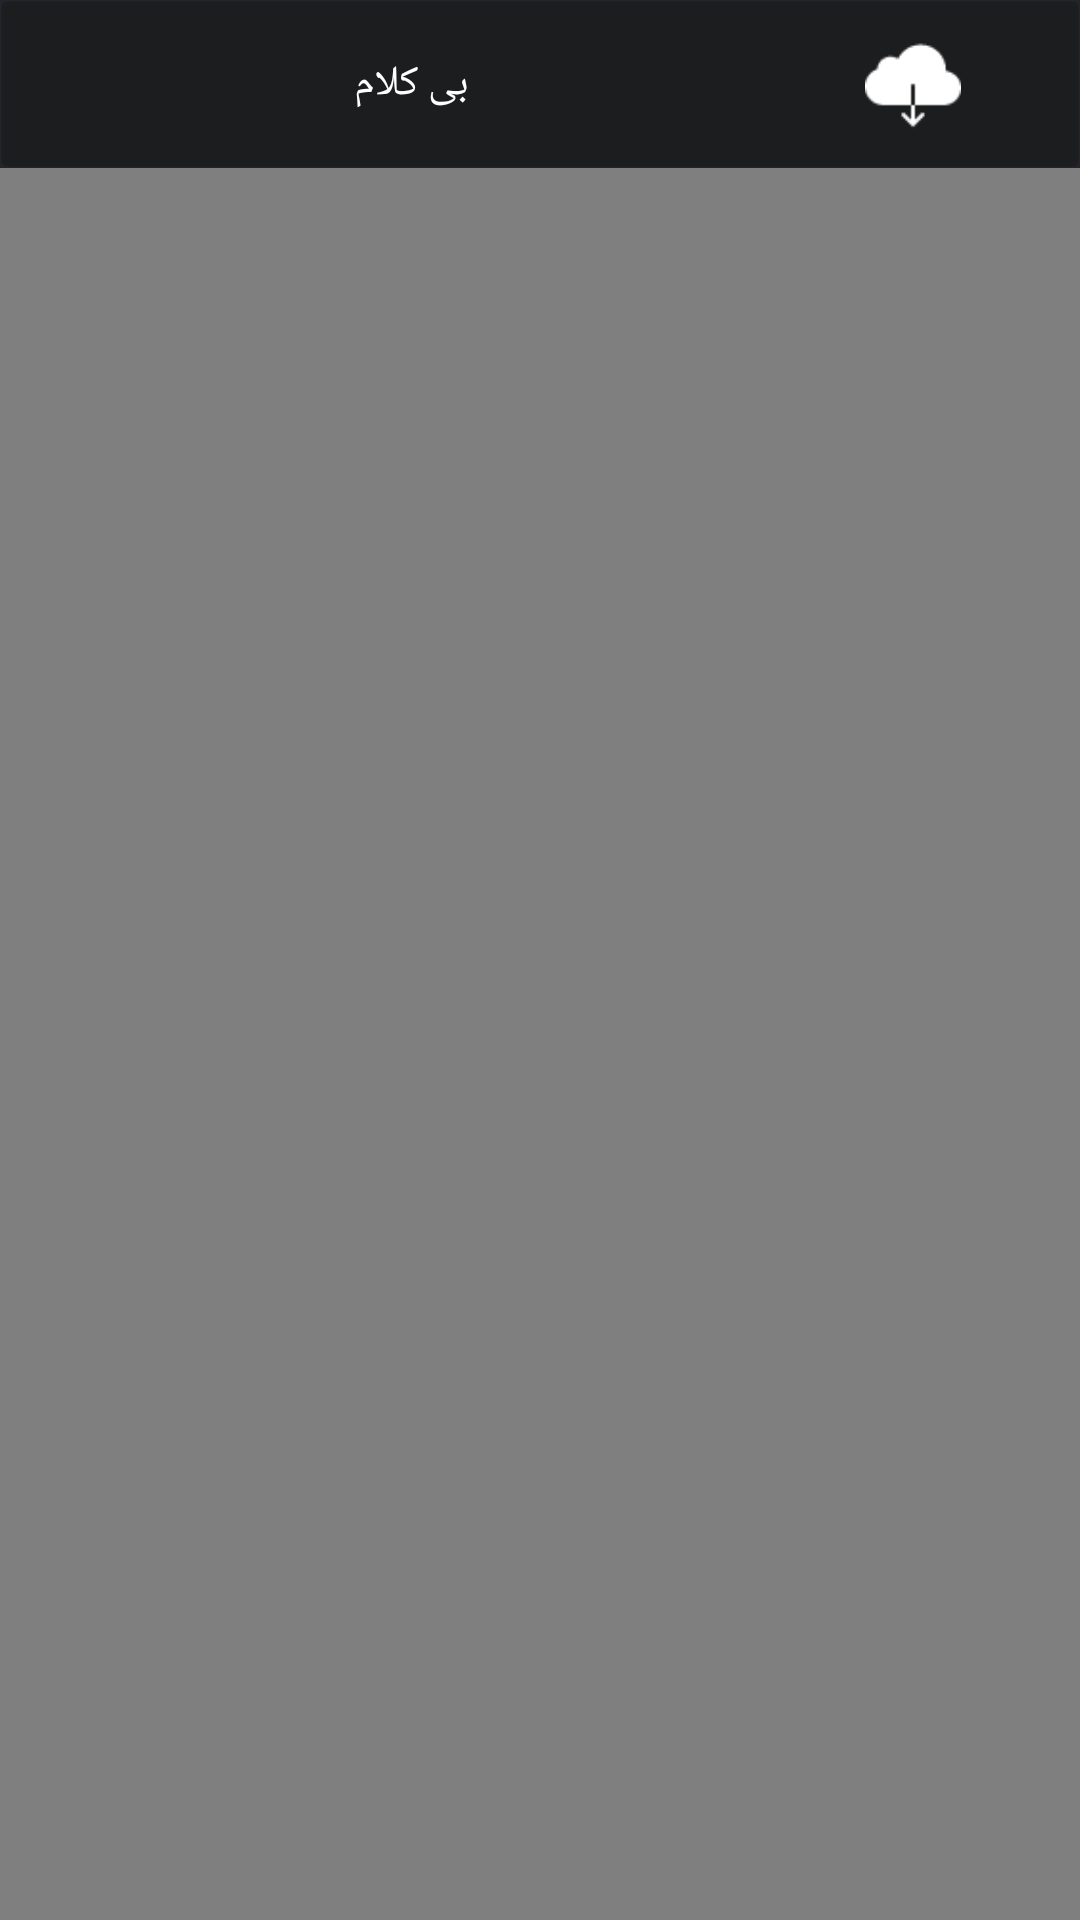

Icon click points for this 1080×1920 phone screenshot, format (x=x, y=y):
down: (x=913, y=85)
